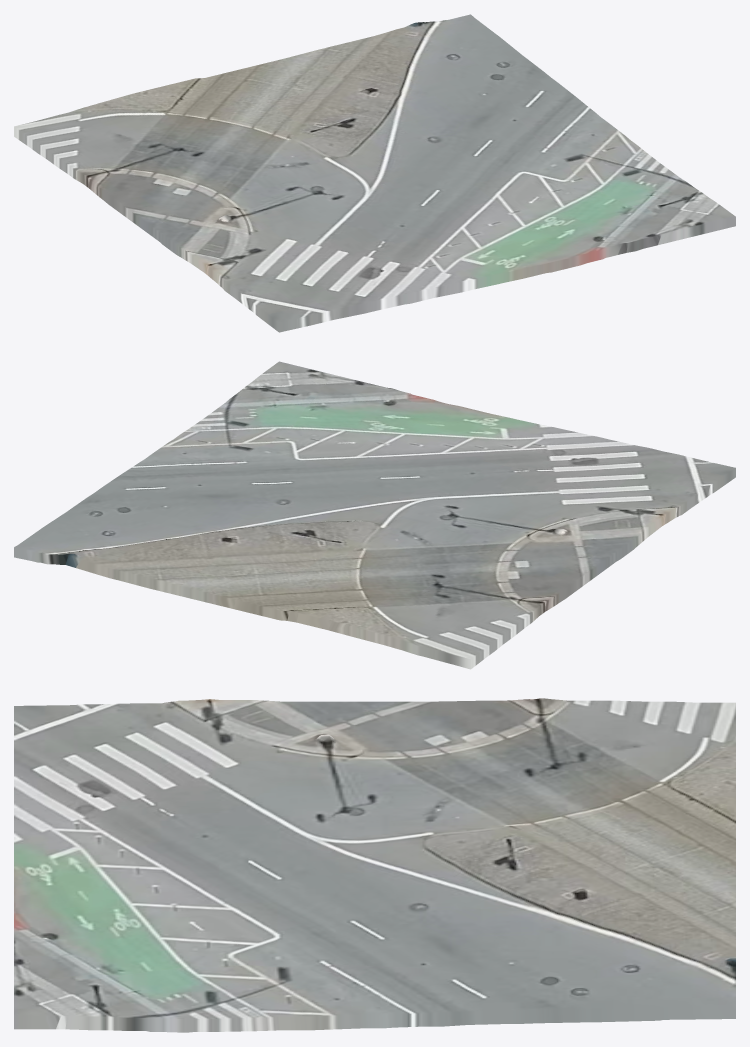
Rendered from z20-167787-405218-h0-yup-uvflip-v3-world.glb.
The picture shows the model from 3 angles, top to bottom: view 1: azimuth 30°, elevation 25°; view 2: azimuth 150°, elevation 25°; view 3: azimuth 270°, elevation 25°; orthographic projection. The views are drawn at different scales.
Size of the model in its own units: 30.16 by 1.64 by 30.32.
Materials: 1 (1 with a texture image).
